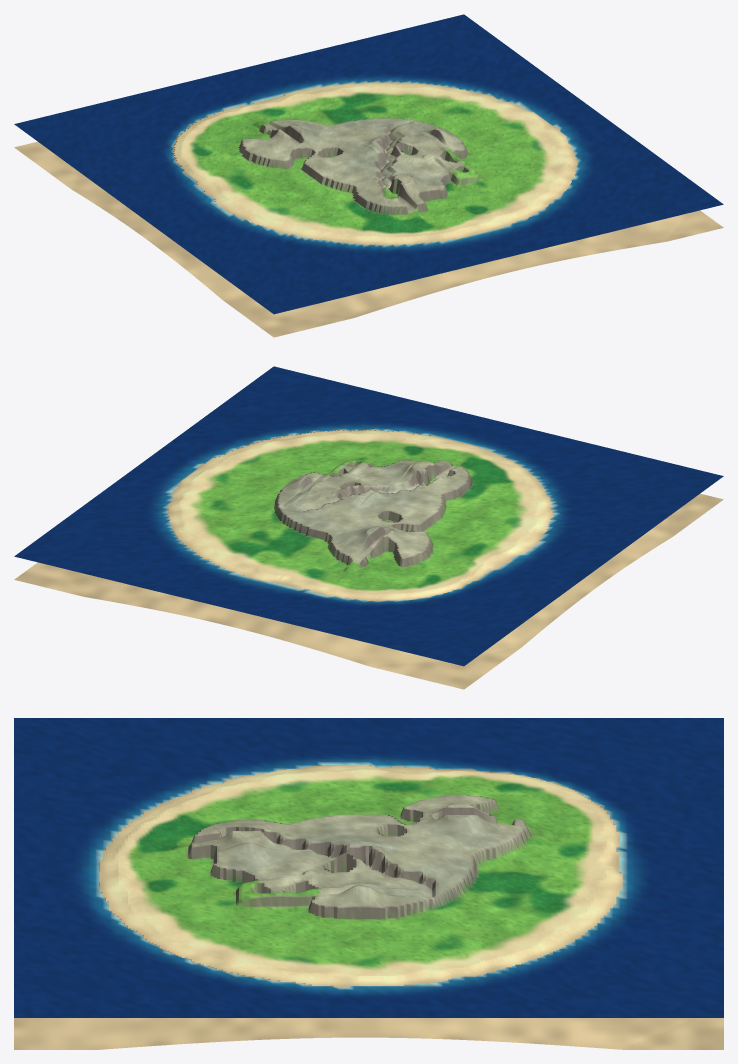
The model's file is island_824934.glb.
3 renders of one model, top to bottom at view 1: azimuth 30°, elevation 25°; view 2: azimuth 150°, elevation 25°; view 3: azimuth 270°, elevation 25°, orthographic. The views are drawn at different scales.
Parts seen in each view (by area): view 1: Grid, Grid.001; view 2: Grid, Grid.001; view 3: Grid.001, Grid.
Boxes of the visible parts, x1,y1,x2,y2 form: Grid: [14, 82, 723, 337]; Grid.001: [14, 14, 723, 314]; Grid: [14, 429, 723, 689]; Grid.001: [14, 366, 723, 666]; Grid.001: [14, 718, 723, 1017]; Grid: [14, 765, 723, 1049].
Bounding box in the file's own units: 56 × 5.16 × 56.
